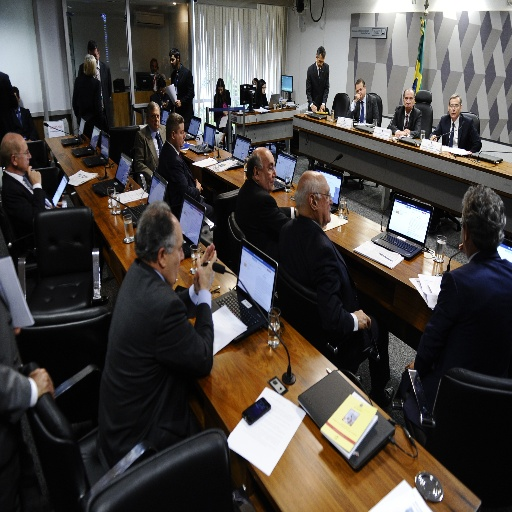hand: (12, 362, 47, 410), (194, 241, 216, 289), (195, 251, 215, 289), (29, 367, 55, 395), (354, 307, 372, 329), (27, 164, 42, 184), (55, 192, 63, 208), (195, 177, 202, 194), (458, 242, 465, 255), (394, 128, 403, 138), (173, 98, 181, 107), (353, 93, 361, 102), (13, 325, 21, 333), (429, 133, 437, 141), (309, 103, 316, 111), (319, 103, 325, 112), (403, 127, 410, 133), (222, 109, 228, 115), (161, 101, 166, 107)
